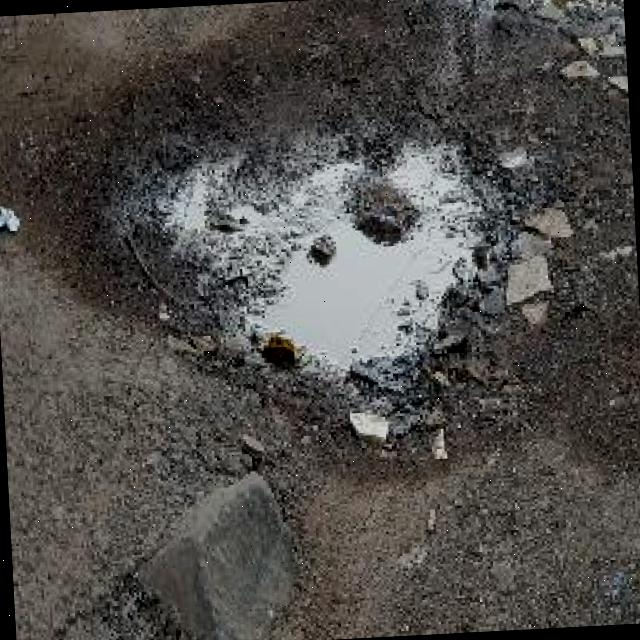waterlogging: (138, 100, 559, 420)
